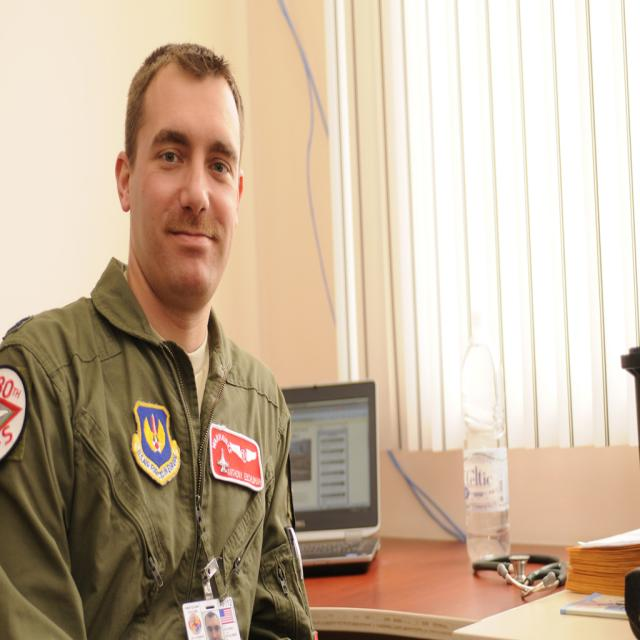desk: (302, 535, 579, 639)
laptop: (279, 379, 382, 573)
person: (1, 33, 313, 638)
